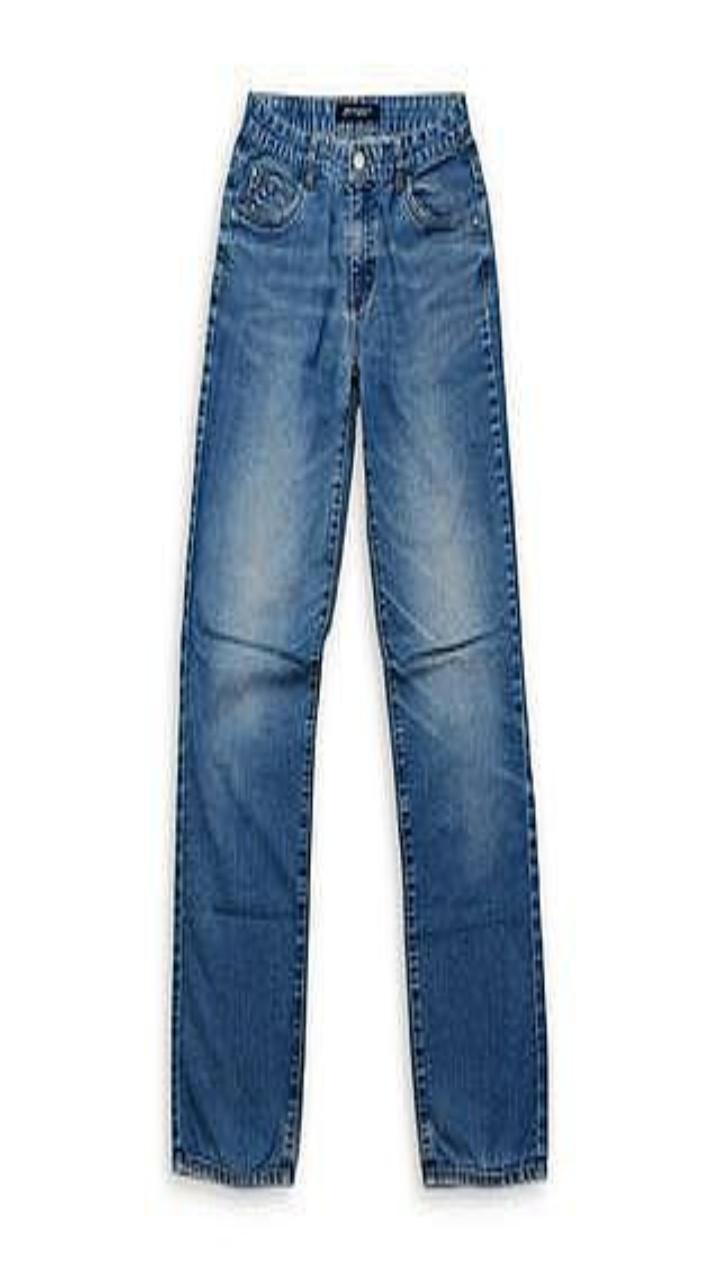Jeans: (173, 93, 546, 1185)
